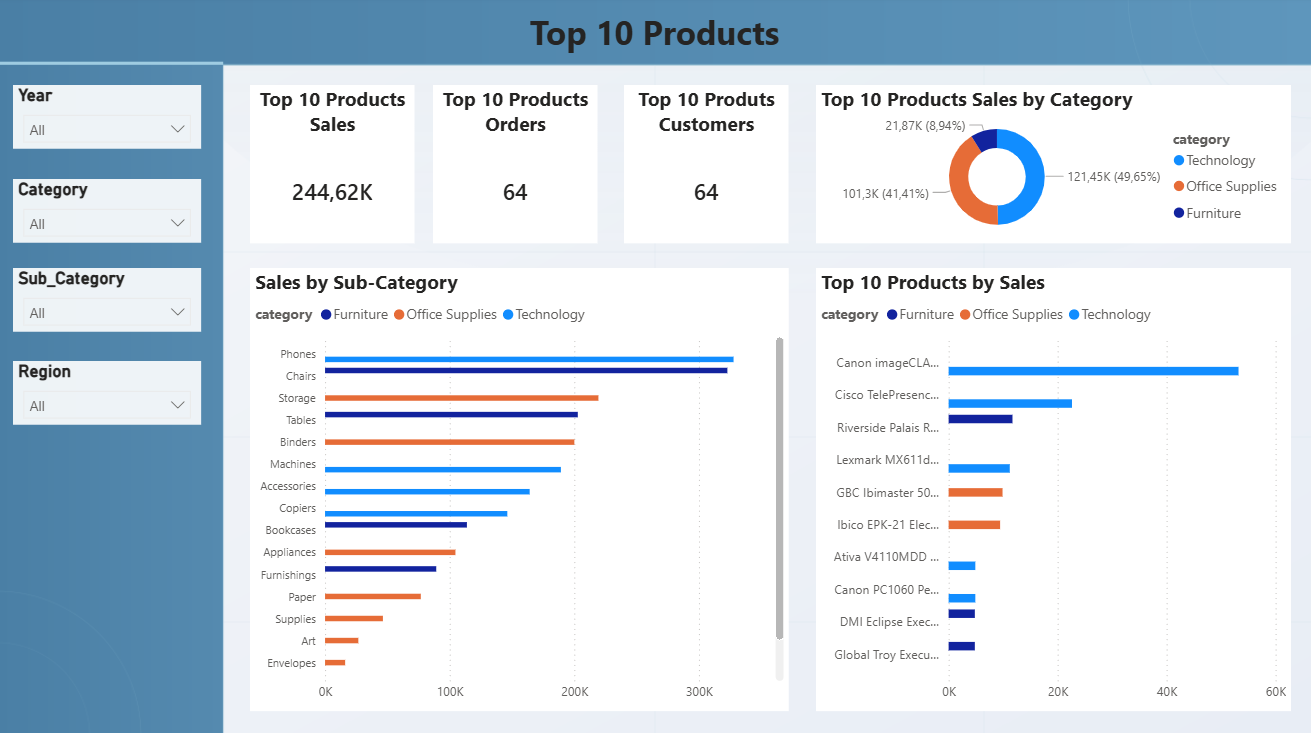

The dashboard page shown, as its layout file describes it:
{"tool":"powerbi","page":{"name":"Top 10 Products","canvas":[1280,720],"ordinal":1},"visuals":[{"type":"cardVisual","title":"Top 10 Products Sales","fields":{"Data":["Sum(vw_products.total_sales)"]},"box":[246.1,85.6,160.5,153.7],"z":0},{"type":"cardVisual","title":"Top 10 Products Orders","fields":{"Data":["Sum(vw_products.orders_count)"]},"box":[424.1,85.6,160.5,153.7],"z":1000},{"type":"cardVisual","title":"Top 10 Produts Customers","fields":{"Data":["Sum(vw_products.customers_count)"]},"box":[609.8,85.6,160.5,153.7],"z":2000},{"type":"clusteredBarChart","title":"Sales by Sub-Category","fields":{"Category":["vw_products.sub_category"],"Series":["vw_products.category"],"Y":["Sum(vw_products.total_sales)"]},"box":[246.1,263.6,524.3,430.9],"z":3000},{"type":"clusteredBarChart","title":"Top 10 Products by Sales","fields":{"Category":["vw_products.product_name"],"Y":["Sum(vw_products.total_sales)"],"Series":["vw_products.category"]},"box":[796.6,263.6,462,430.9],"z":4000},{"type":"donutChart","title":"Top 10 Products Sales by Category","fields":{"Y":["Sum(vw_products.total_sales)"],"Category":["vw_products.category"]},"box":[796.6,85.6,462,153.7],"z":5000},{"type":"slicer","title":"Region","fields":{"Values":["vw_products.region"]},"box":[15.6,354,182.9,62.2],"z":6000},{"type":"slicer","title":"Category","fields":{"Values":["vw_products.category"]},"box":[15.6,177,182.9,62.2],"z":7000},{"type":"slicer","title":"Year","fields":{"Values":["vw_products.year"]},"box":[15.6,85.6,182.9,62.2],"z":8000},{"type":"textbox","box":[433.8,6.8,411.4,54.5],"z":9000},{"type":"slicer","title":"Sub_Category","fields":{"Values":["vw_products.sub_category"]},"box":[15.6,263.6,182.9,62.2],"z":10000}]}

Visuals, with their boxes in screenshot pixels (x1, y1, x2, y2), scaled from the page's 1280x720 canvas onto the 1311x733 screenshot:
"Top 10 Products Sales" cardVisual: Rect(252, 87, 416, 244)
"Top 10 Products Orders" cardVisual: Rect(434, 87, 599, 244)
"Top 10 Produts Customers" cardVisual: Rect(625, 87, 789, 244)
"Sales by Sub-Category" clusteredBarChart: Rect(252, 268, 789, 707)
"Top 10 Products by Sales" clusteredBarChart: Rect(816, 268, 1289, 707)
"Top 10 Products Sales by Category" donutChart: Rect(816, 87, 1289, 244)
"Region" slicer: Rect(16, 360, 203, 424)
"Category" slicer: Rect(16, 180, 203, 244)
"Year" slicer: Rect(16, 87, 203, 150)
textbox: Rect(444, 7, 866, 62)
"Sub_Category" slicer: Rect(16, 268, 203, 332)
